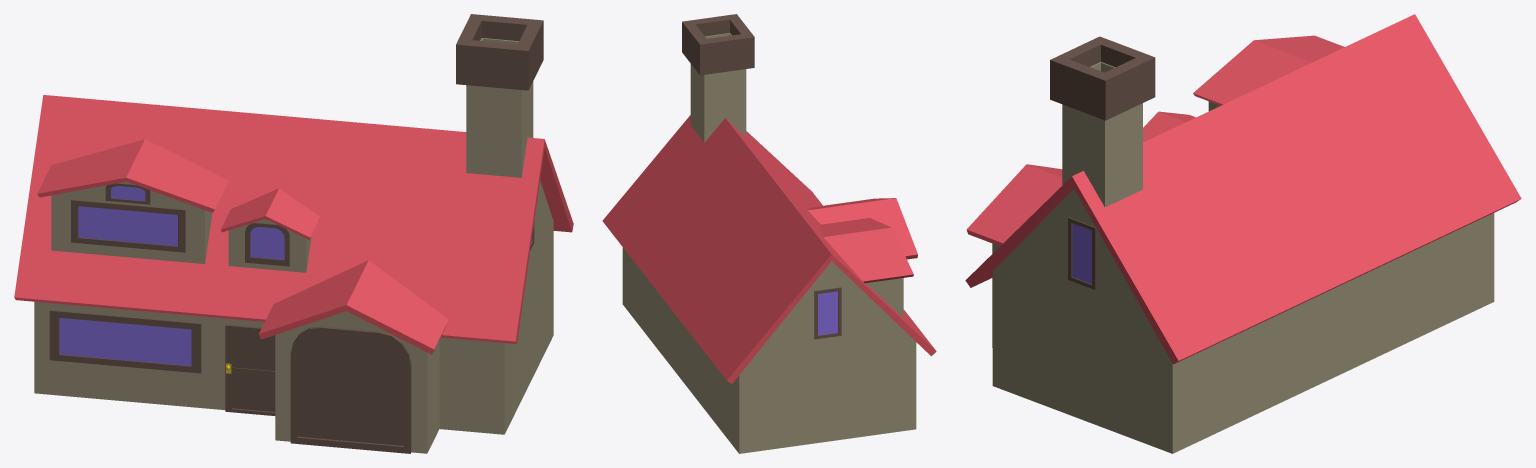
Rendered from CALLE9_CASA1_052.fbx.
The picture shows the model from 3 angles, left to right: view 1: azimuth 30°, elevation 25°; view 2: azimuth 150°, elevation 25°; view 3: azimuth 270°, elevation 25°; orthographic projection. The views are drawn at different scales.
Parts seen in each view (by area): view 1: CASA1.052; view 2: CASA1.052; view 3: CASA1.052.
Part boxes in pixels (bbox=[...]): CASA1.052: bbox=[14, 14, 573, 453]; CASA1.052: bbox=[602, 14, 936, 453]; CASA1.052: bbox=[965, 14, 1521, 453].
Size of the model in its own units: 1086 by 734 by 1052.
